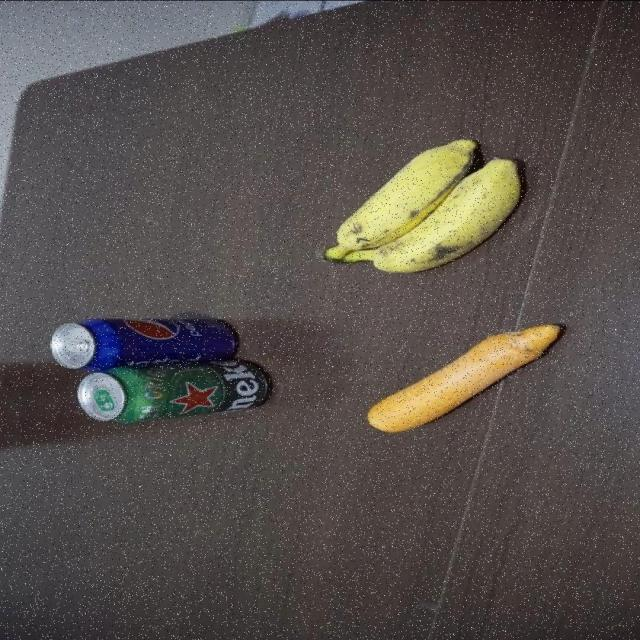Banana: (317, 137, 524, 274)
BeerCan: (77, 358, 271, 422)
Carrot: (368, 324, 564, 432)
SodaCan: (49, 316, 236, 370)
